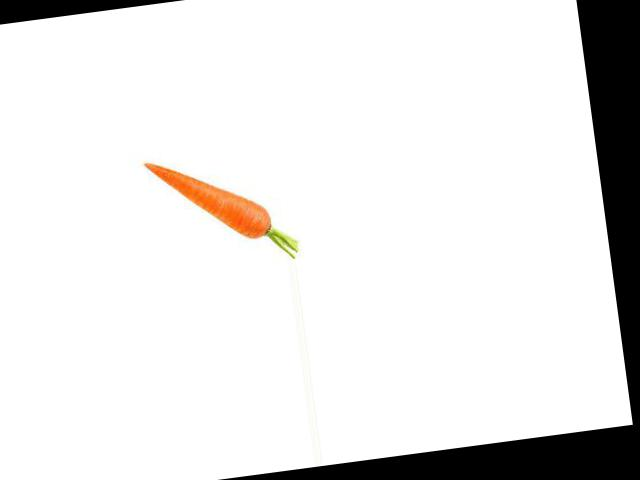carrot: (142, 144, 276, 252)
